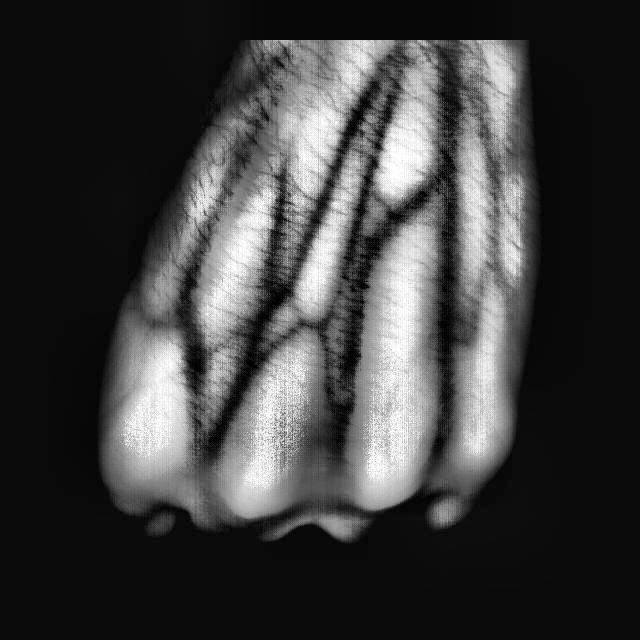Vein: (289, 74, 386, 270), (437, 137, 461, 322)
